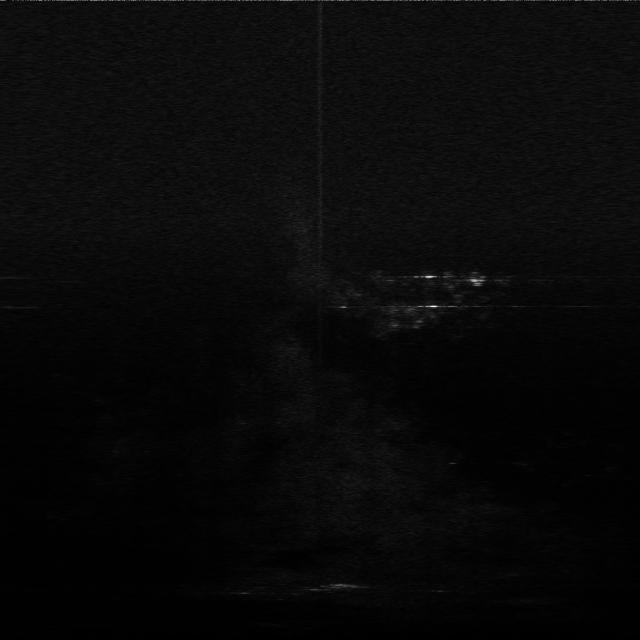rov: (466, 271, 492, 289)
